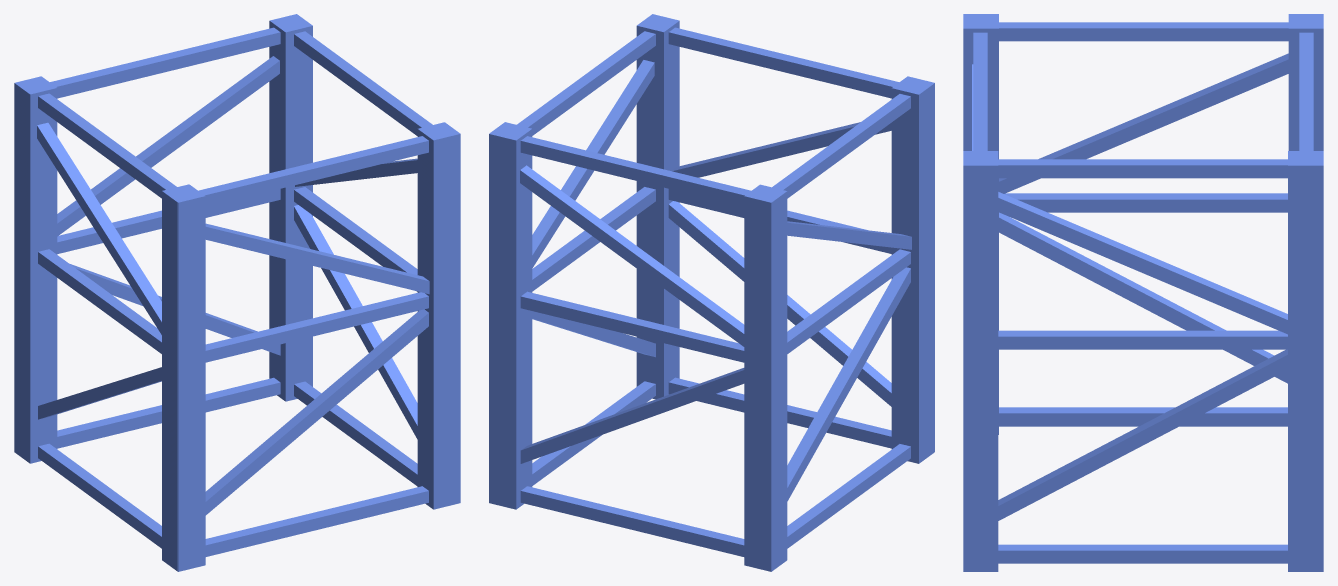
File: standardSection.glb
3 views of the same model, side by side, from view 1: azimuth 30°, elevation 25°; view 2: azimuth 150°, elevation 25°; view 3: azimuth 270°, elevation 25° (orthographic). The views are drawn at different scales.
Visible parts, largest first — view 1: standardSection; view 2: standardSection; view 3: standardSection.
Part boxes in pixels (x1,y1,x2,y2): standardSection: (14, 14, 460, 571); standardSection: (489, 14, 934, 571); standardSection: (963, 14, 1323, 571).
Size of the model in its own units: 62.47 by 78 by 62.71.
